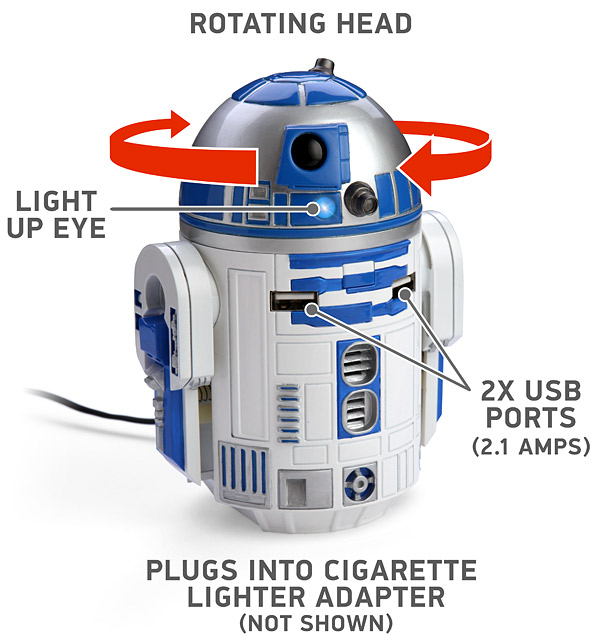r2d2: (139, 60, 459, 525)
